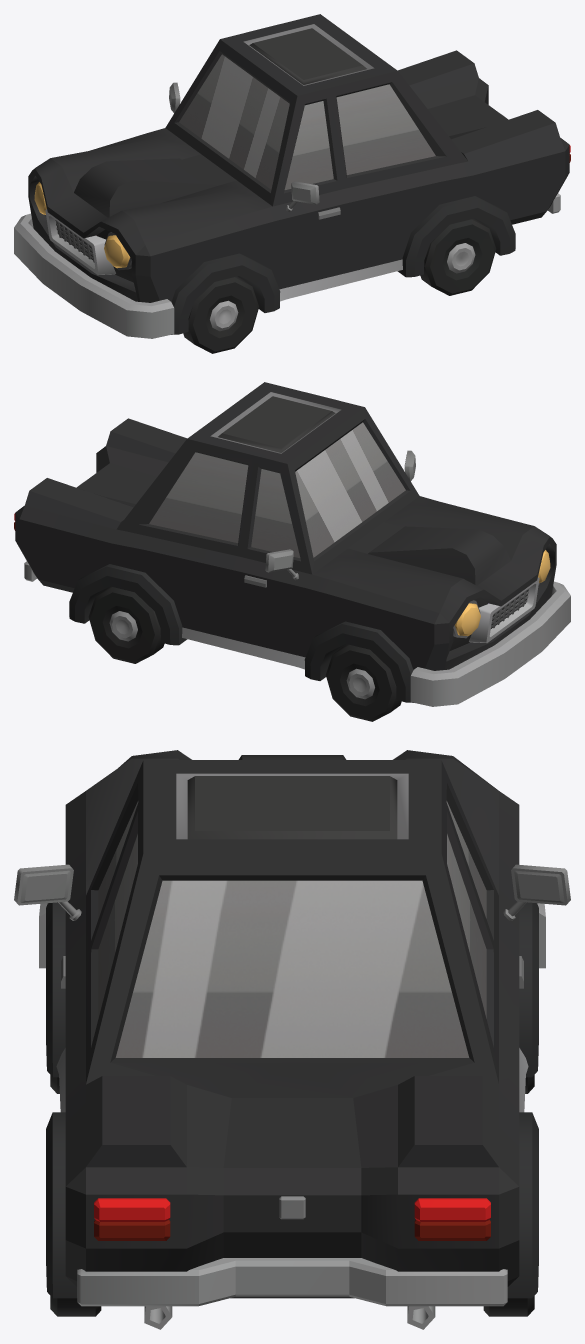
The model's file is Car_17_Q.gltf.
The picture shows the model from 3 angles, top to bottom: view 1: azimuth 30°, elevation 25°; view 2: azimuth 150°, elevation 25°; view 3: azimuth 270°, elevation 25°; orthographic projection. The views are drawn at different scales.
Visible parts, largest first — view 1: Car_17_Q, RL, FL; view 2: Car_17_Q, RR, FR; view 3: Car_17_Q, RL, RR.
Boxes of the visible parts, x1,y1,x2,y2 form: Car_17_Q: (14,14,570,338); RL: (420,218,496,295); FL: (183,276,258,353); Car_17_Q: (14,382,570,706); RR: (88,586,164,663); FR: (326,644,401,721); Car_17_Q: (14,750,570,1329); RL: (50,1296,101,1316); RR: (483,1296,534,1316).
Size of the model in its own units: 3.39 by 1.53 by 1.85.
Materials: 4 (4 with a texture image).
